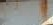Corrosion: (38, 1, 47, 22)
